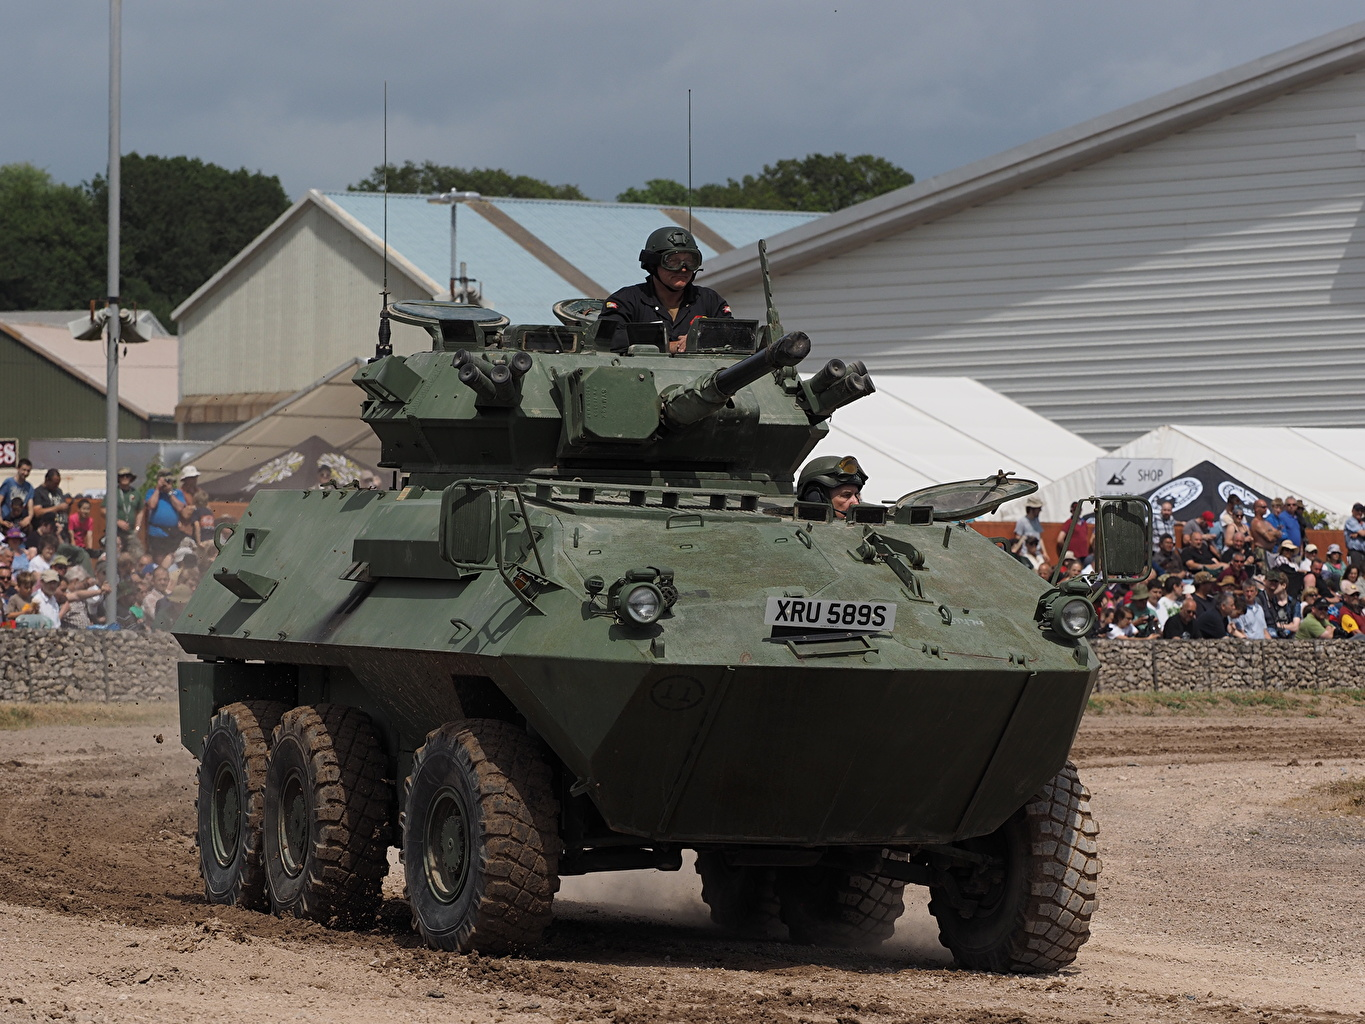btr: (175, 213, 1113, 963)
human: (1, 466, 209, 634), (1156, 500, 1365, 636), (1, 459, 37, 530)
pilot: (578, 221, 759, 363), (793, 451, 882, 528)
